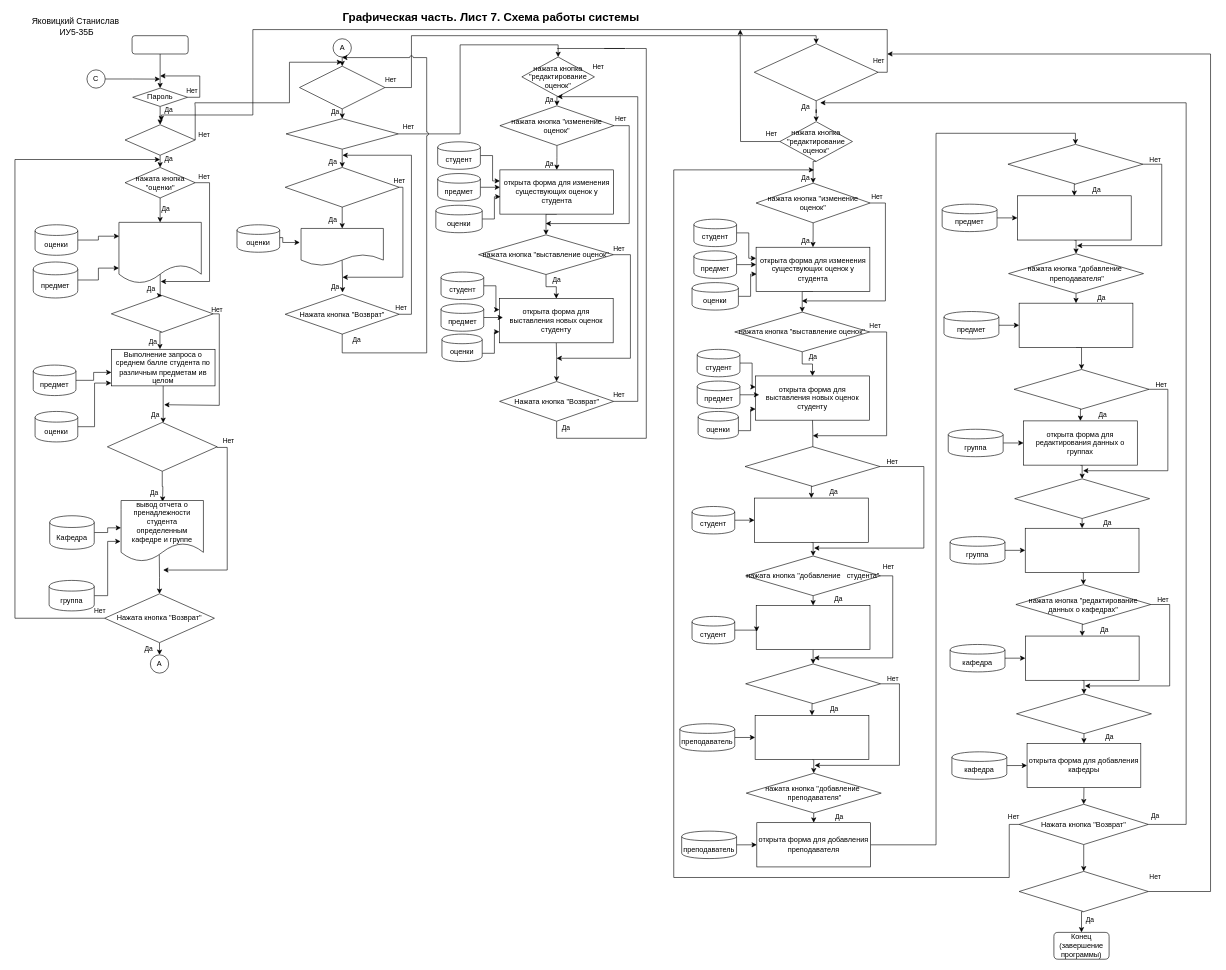
Some shapes in this 1226 by 970 pixel diagram are drawn without their labels. The shapes that lost their labels are listed below. From the top down, each one's box as (x1, y1, x2, y2) in pixels, then its label:
(131, 35, 188, 54): Начало(запуск)
(299, 66, 385, 109): Нажата кнопка "преподавателям"
(754, 43, 878, 101): нажата кнопка "админнистраторам
(124, 124, 195, 155): нажата кнопка "студентам"
(285, 118, 398, 149): нажата кнопка "отчеты"
(1007, 144, 1143, 184): нажата кнопка "редактирование данных о предмете"
(285, 167, 399, 207): нажата кнопка "выставленные оценки"
(1017, 195, 1131, 240): открыта форма для редактирования данных о предмете
(118, 222, 201, 283): отчет о выставленных студенту оценках по различным предметам
(300, 228, 383, 266): отчет о выставленных преподавателем оценках
(111, 295, 213, 332): нажата кнопка "средний балл"
(1019, 303, 1133, 347): открыта форма для добавления предмета
(1013, 369, 1149, 409): нажата кнопка "редактирование данных о группах"
(107, 422, 217, 471): нажата кнопка "мои кафедра и группа"
(744, 446, 880, 486): нажата кнопка "редактирование данных о студентах"
(1014, 478, 1150, 518): нажата кнопка "добавление группы
(754, 497, 868, 542): открыта форма для редактирования данных о студентах
(1025, 528, 1139, 572): открыта форма для добавления группы
(756, 605, 870, 650): открыта форма для добавления студента
(1025, 635, 1139, 680): открыта форма для редактирования данных о кафедре
(745, 663, 881, 704): нажата кнопка "редактирование данных о преподавателях"
(1016, 693, 1151, 734): нажата кнопка "добавление кафедры"
(755, 715, 869, 760): открыта форма для редактирования данных о преподавателях
(1019, 871, 1148, 912): Нажата кнопка "Выход"
